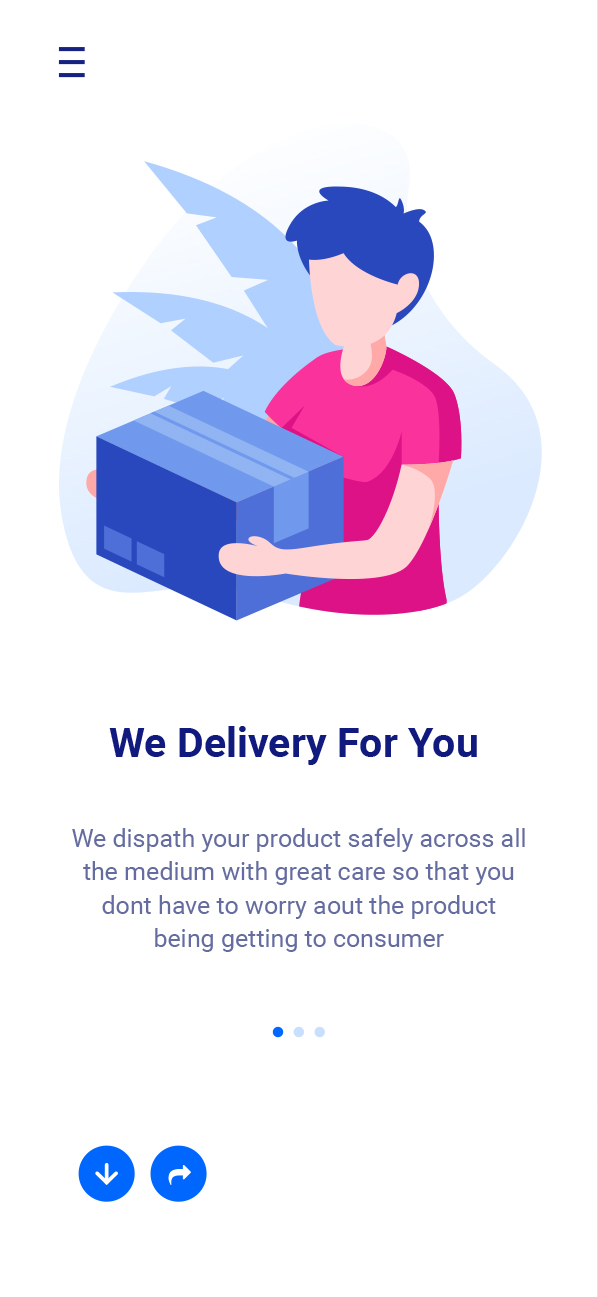Icon: (79, 1145, 136, 1203), (151, 1145, 208, 1202), (59, 47, 87, 79)
Image: (59, 161, 543, 622)
PageIndicator: (273, 1026, 326, 1038)
Text: (72, 827, 526, 953), (110, 725, 478, 766)
